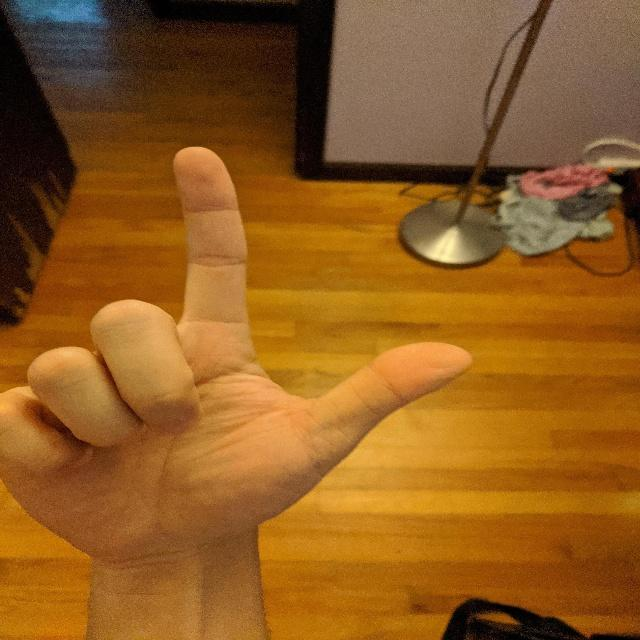L: (0, 137, 477, 567)
